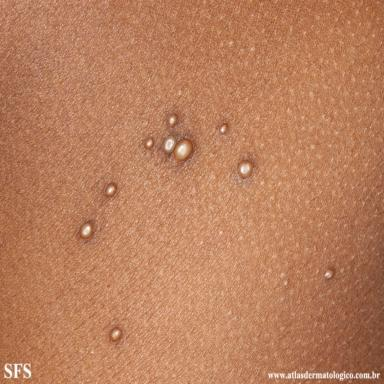Molluscum-Contagiosum: (161, 135, 196, 162), (237, 159, 253, 179), (79, 221, 94, 239), (109, 326, 123, 342), (143, 136, 155, 150), (167, 114, 179, 128), (105, 183, 116, 197), (324, 268, 335, 279), (219, 122, 229, 134)
